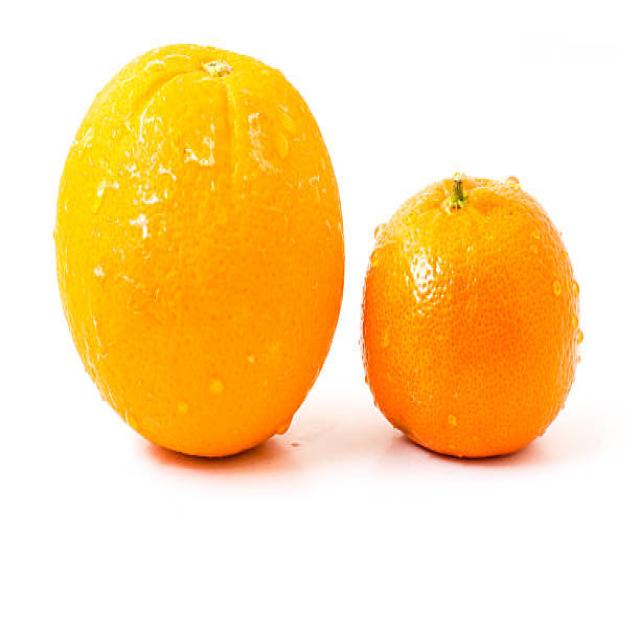Ripe: (54, 38, 348, 462), (360, 164, 586, 462)
